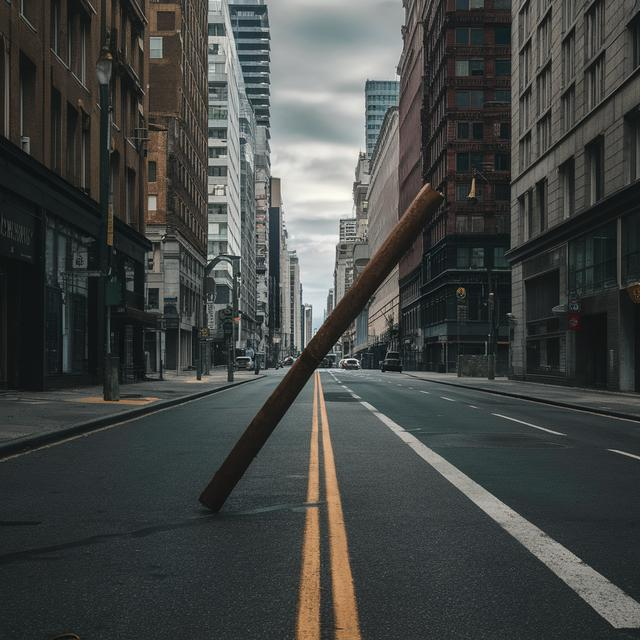Inclined Pole: (194, 178, 451, 515)
